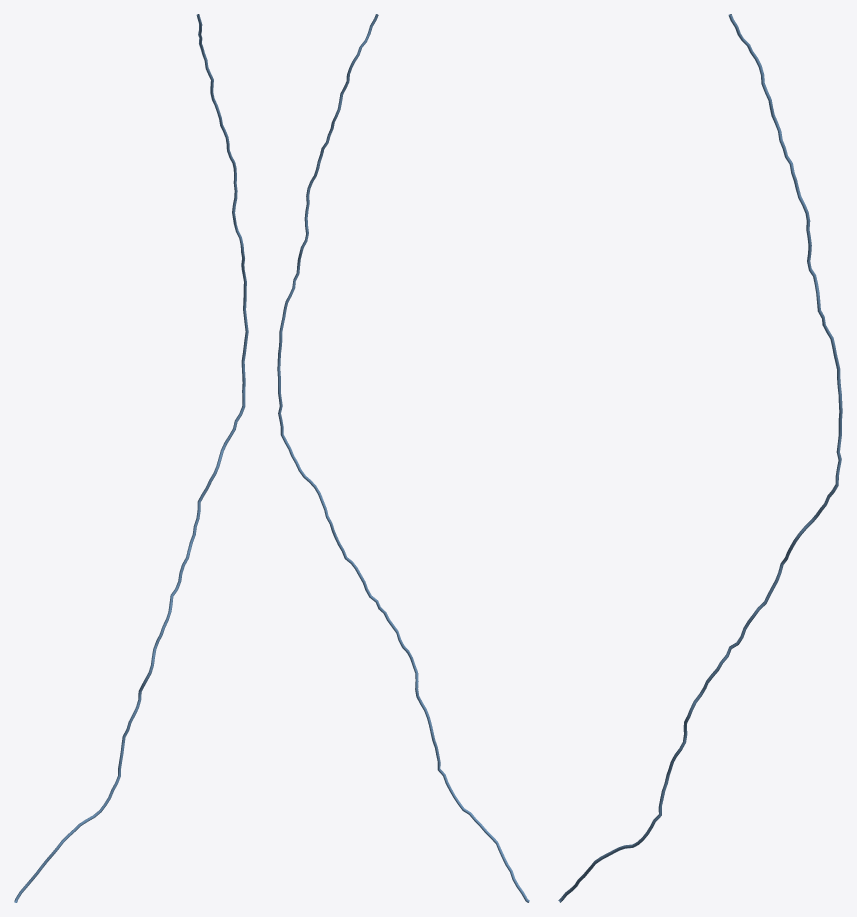
Rendered from sweep95.fbx.
3 renders of one model, left to right at view 1: azimuth 30°, elevation 25°; view 2: azimuth 150°, elevation 25°; view 3: azimuth 330°, elevation 25°, orthographic. The views are drawn at different scales.
Visible parts, largest first — view 1: sweep95; view 2: sweep95; view 3: sweep95.
Boxes of the visible parts, bbox=[...] form: sweep95: bbox=[14, 14, 248, 902]; sweep95: bbox=[277, 14, 529, 902]; sweep95: bbox=[558, 14, 842, 902].
Size of the model in its own units: 1.77 by 5.92 by 0.3638.
